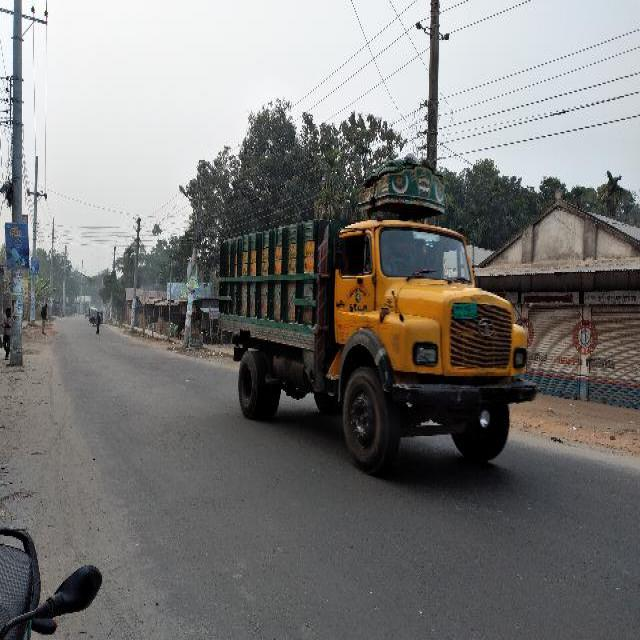bike: (201, 325, 230, 346)
vehicle: (212, 160, 551, 482), (89, 307, 99, 327), (85, 306, 90, 320)
